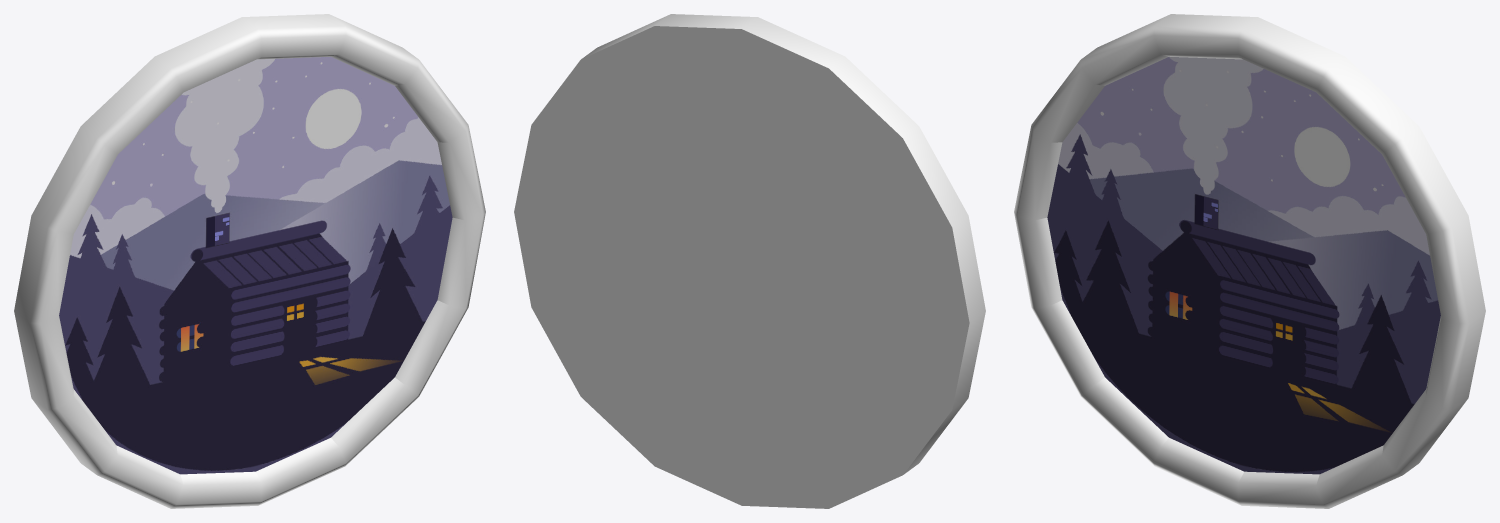
File: picture_021.fbx
The picture shows the model from 3 angles, left to right: view 1: azimuth 30°, elevation 25°; view 2: azimuth 150°, elevation 25°; view 3: azimuth 330°, elevation 25°; orthographic projection.
Parts seen in each view (by area): view 1: picture_021; view 2: picture_021; view 3: picture_021.
Boxes of the visible parts, bbox=[...] form: picture_021: bbox=[14, 14, 485, 508]; picture_021: bbox=[514, 14, 985, 508]; picture_021: bbox=[1014, 14, 1485, 508].
Size of the model in its own units: 51.94 by 3.9 by 51.94.
